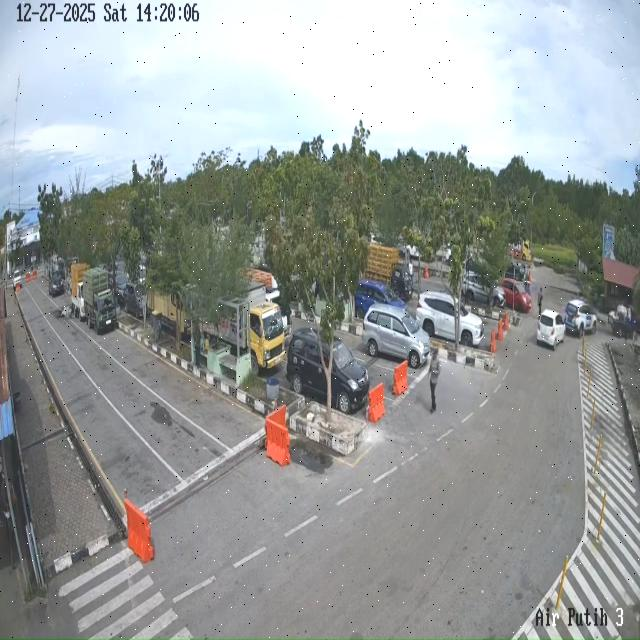Golongan IVA: (286, 327, 370, 414), (362, 304, 430, 368), (416, 292, 484, 346), (355, 279, 406, 319), (462, 272, 506, 308), (536, 309, 566, 350), (565, 299, 597, 337), (501, 278, 532, 313), (122, 282, 145, 318), (48, 271, 65, 297)
Golongan IVB: (84, 267, 116, 334), (70, 263, 90, 321), (609, 306, 640, 338)
Golongan VB: (202, 280, 286, 374)
